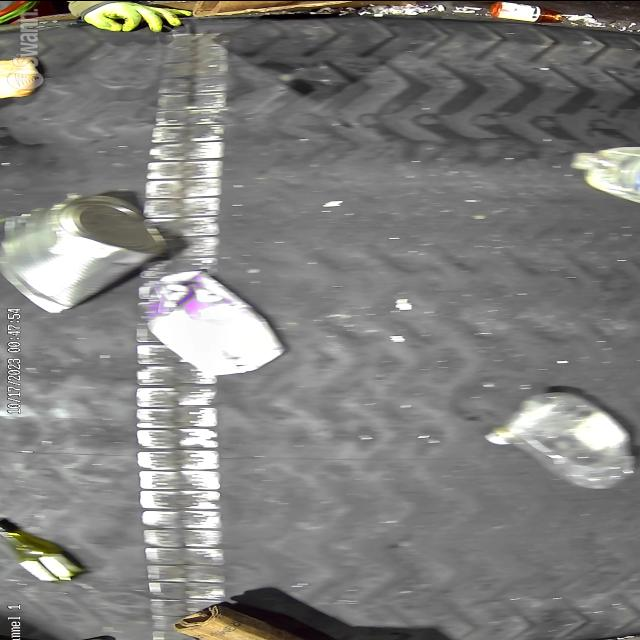can: (0, 192, 166, 310)
non_white_jug: (138, 268, 286, 374)
plastic_bottle: (488, 390, 636, 490), (568, 146, 640, 210)
